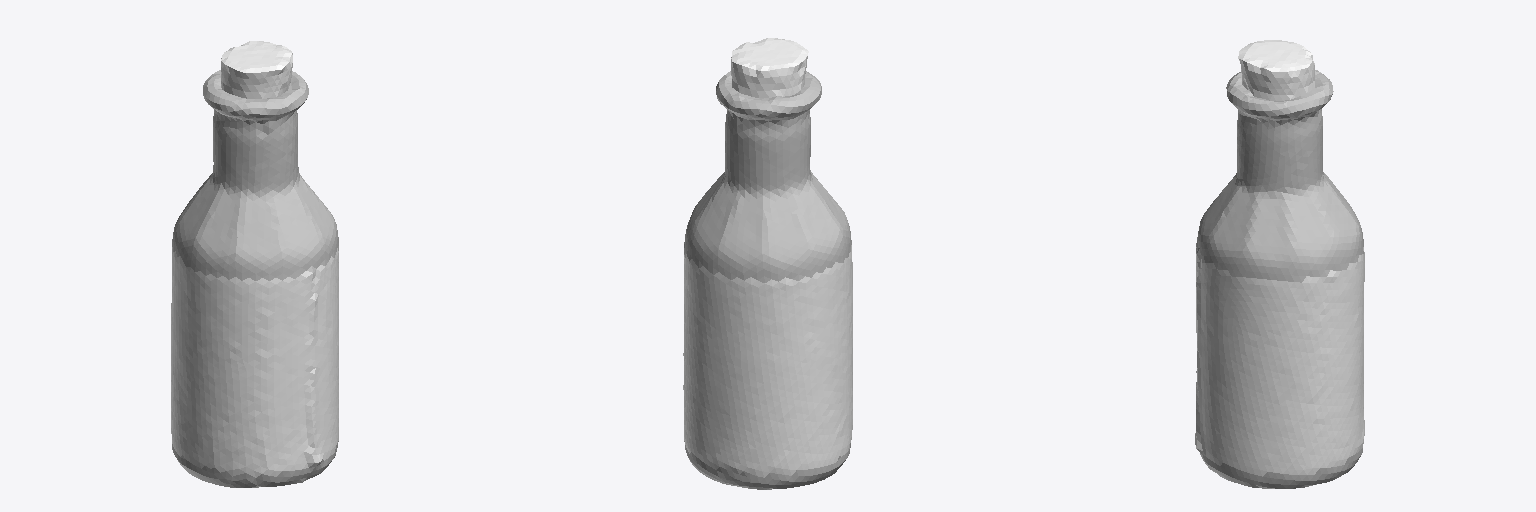
The model's file is Le_Coq_extrakt_SF.obj.
3 views of the same model, side by side, from view 1: azimuth 30°, elevation 25°; view 2: azimuth 150°, elevation 25°; view 3: azimuth 270°, elevation 25° (orthographic).
Visible parts, largest first — view 1: Le_Coq_extrakt; view 2: Le_Coq_extrakt; view 3: Le_Coq_extrakt.
Boxes of the visible parts, box(x1,y1,x2,y2) form: Le_Coq_extrakt: box(171, 41, 338, 487); Le_Coq_extrakt: box(683, 38, 852, 489); Le_Coq_extrakt: box(1195, 40, 1364, 488).
Bounding box in the file's own units: 0.4693 × 1.25 × 0.4753.